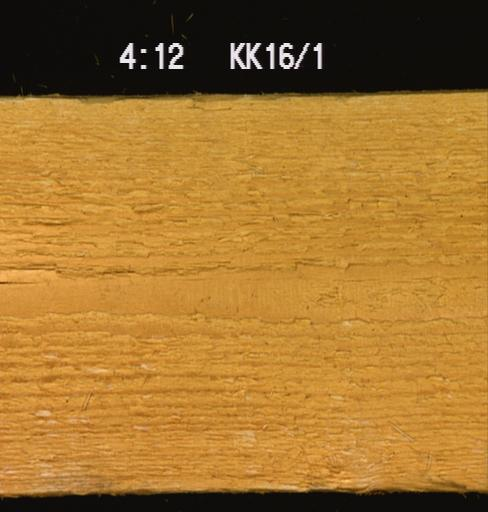split: (19, 217, 77, 227), (0, 277, 41, 287)
